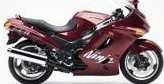motorcycle: (3, 1, 163, 83)
